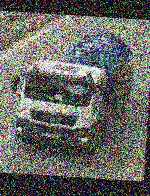truck: (6, 26, 133, 158)
